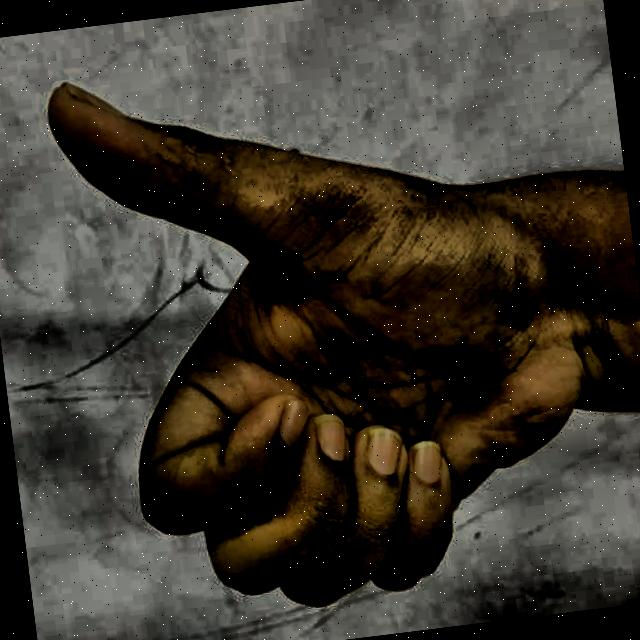Do: (14, 5, 620, 640)
